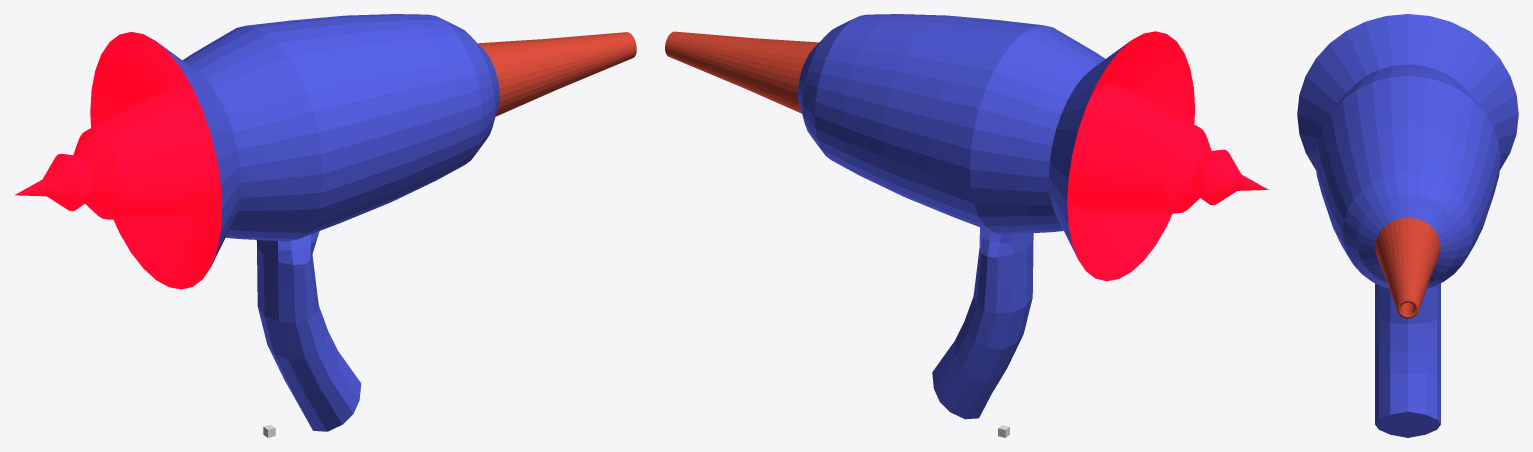
3 renders of one model, left to right at view 1: azimuth 30°, elevation 25°; view 2: azimuth 150°, elevation 25°; view 3: azimuth 270°, elevation 25°, orthographic. The views are drawn at different scales.
Visible parts, largest first — view 1: Cube.001; view 2: Cube.001; view 3: Cube.001.
Part boxes in pixels (bbox=[...]): Cube.001: bbox=[15, 14, 636, 431]; Cube.001: bbox=[665, 14, 1268, 419]; Cube.001: bbox=[1297, 14, 1518, 437].
Bounding box in the file's own units: 15893 × 10596 × 5881.
